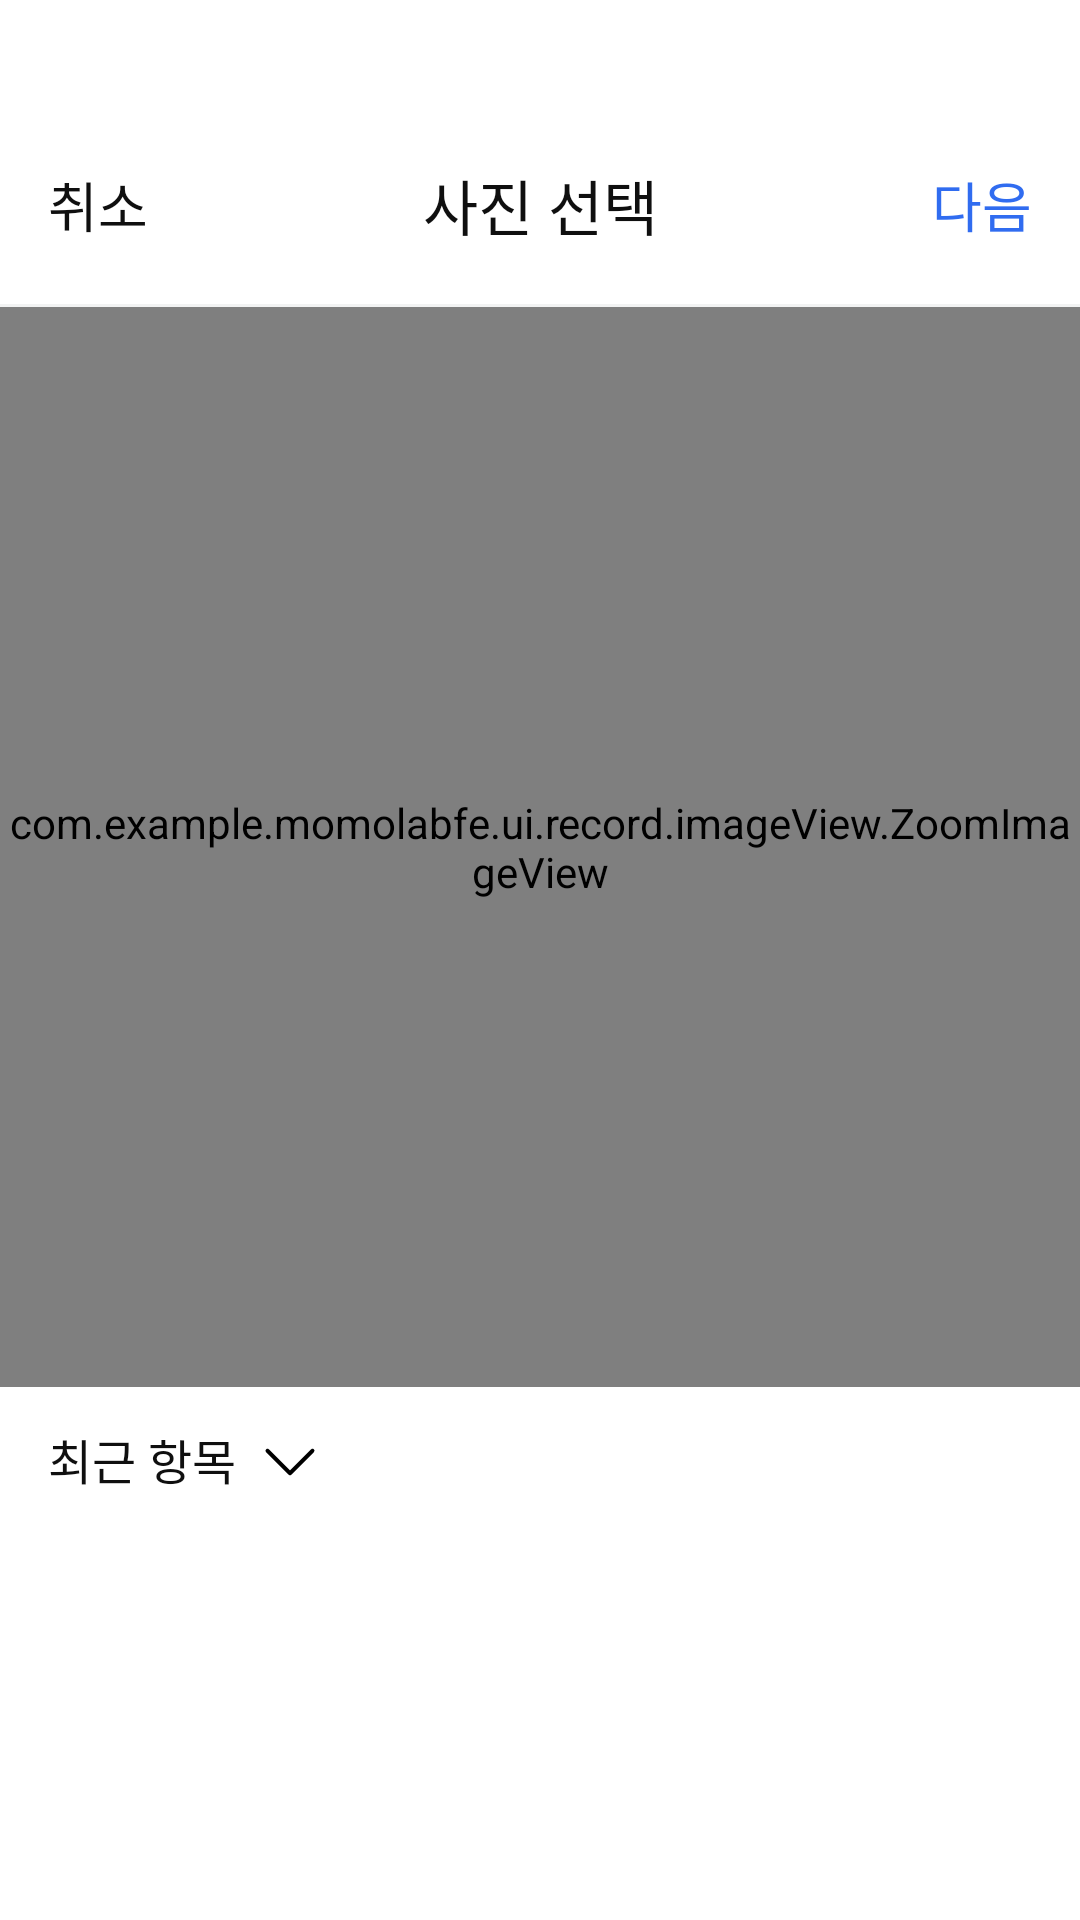

Screen size 1080x1920. Icon name, then its center in pixels as (x,y):
down arrow sv: (290,1462)
